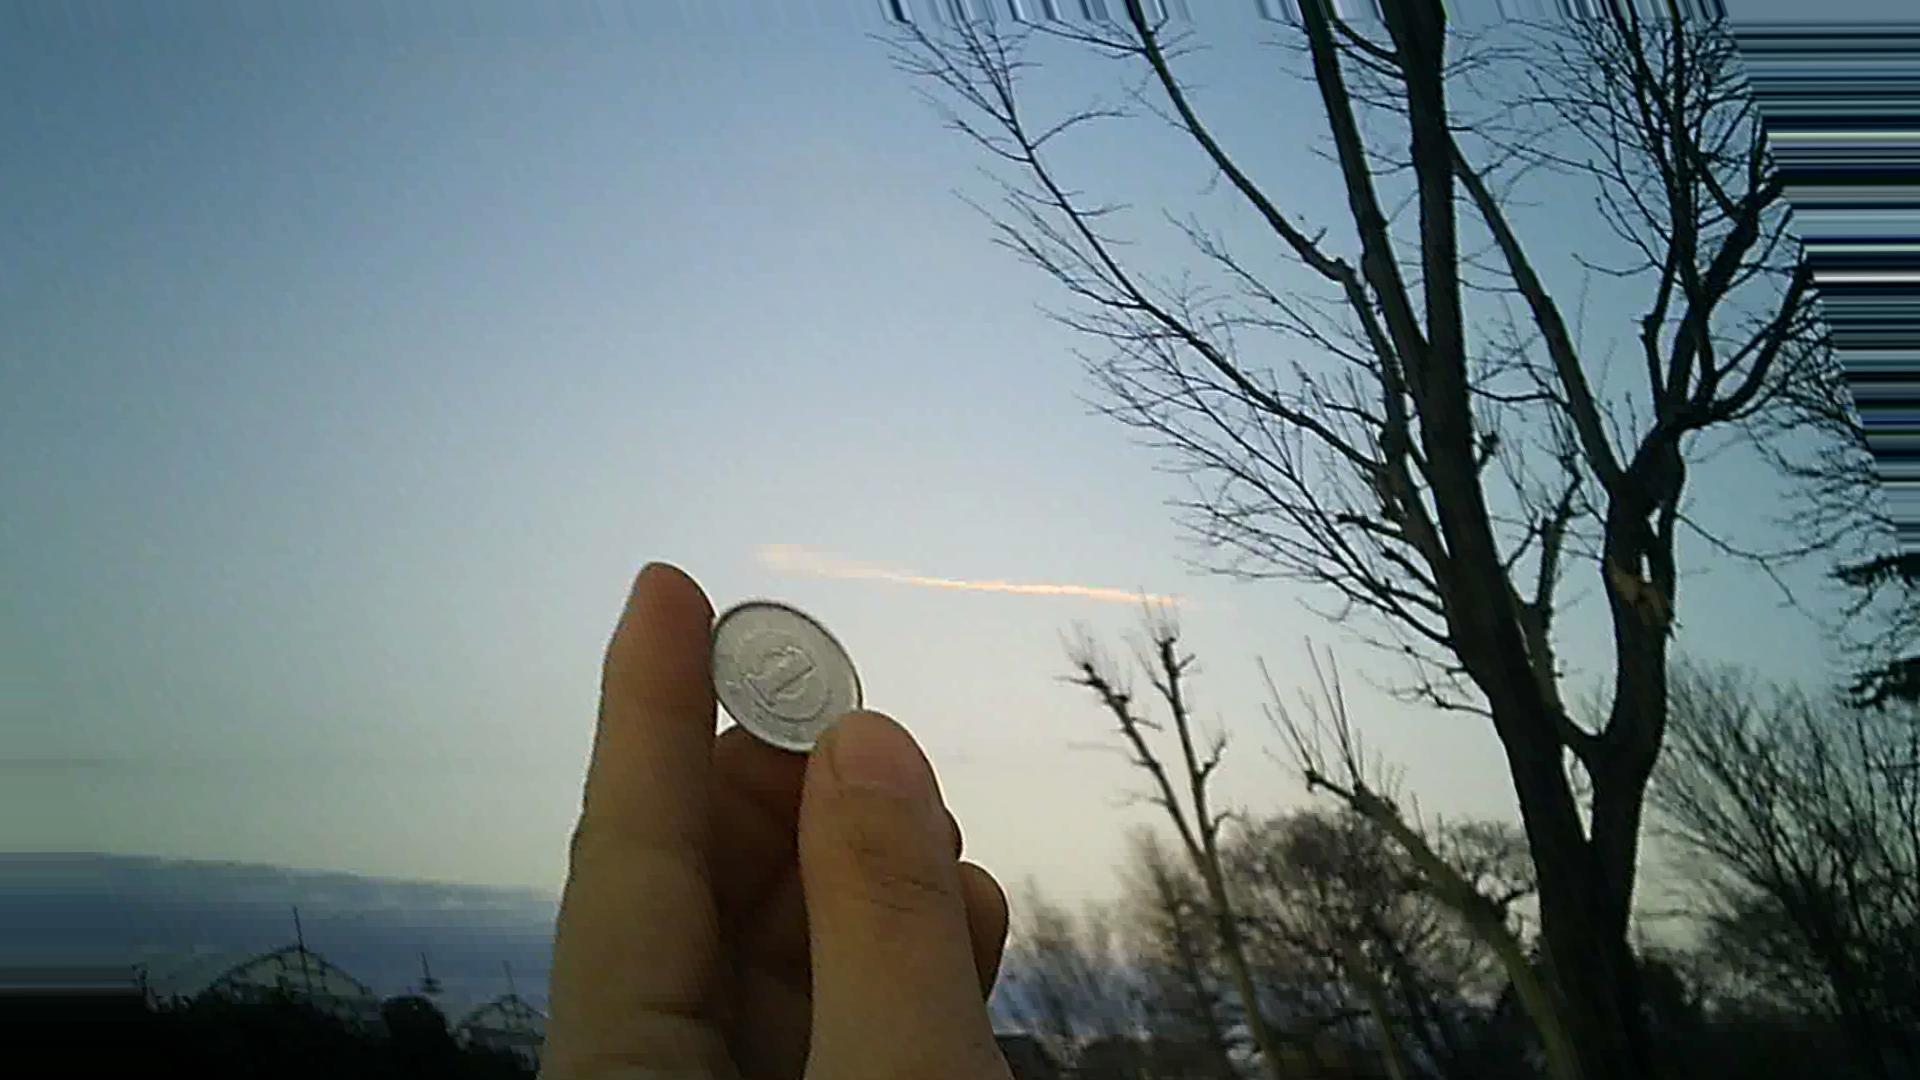1 Yen: (676, 583, 887, 742)
